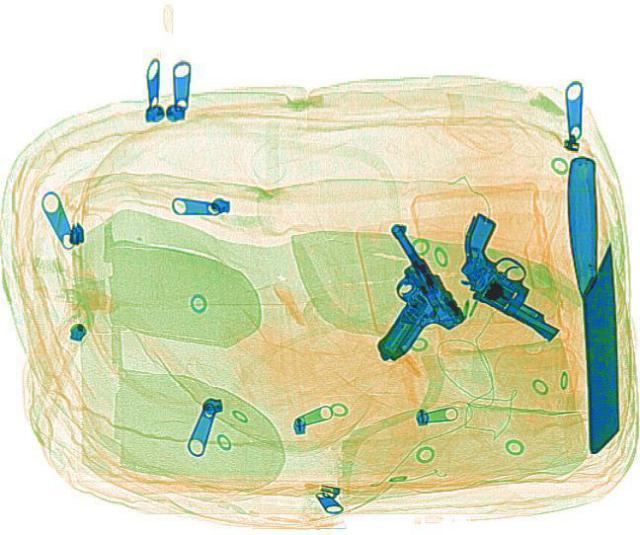Gun: (421, 210, 603, 339), (311, 221, 473, 360)
Knife: (562, 154, 626, 449)
